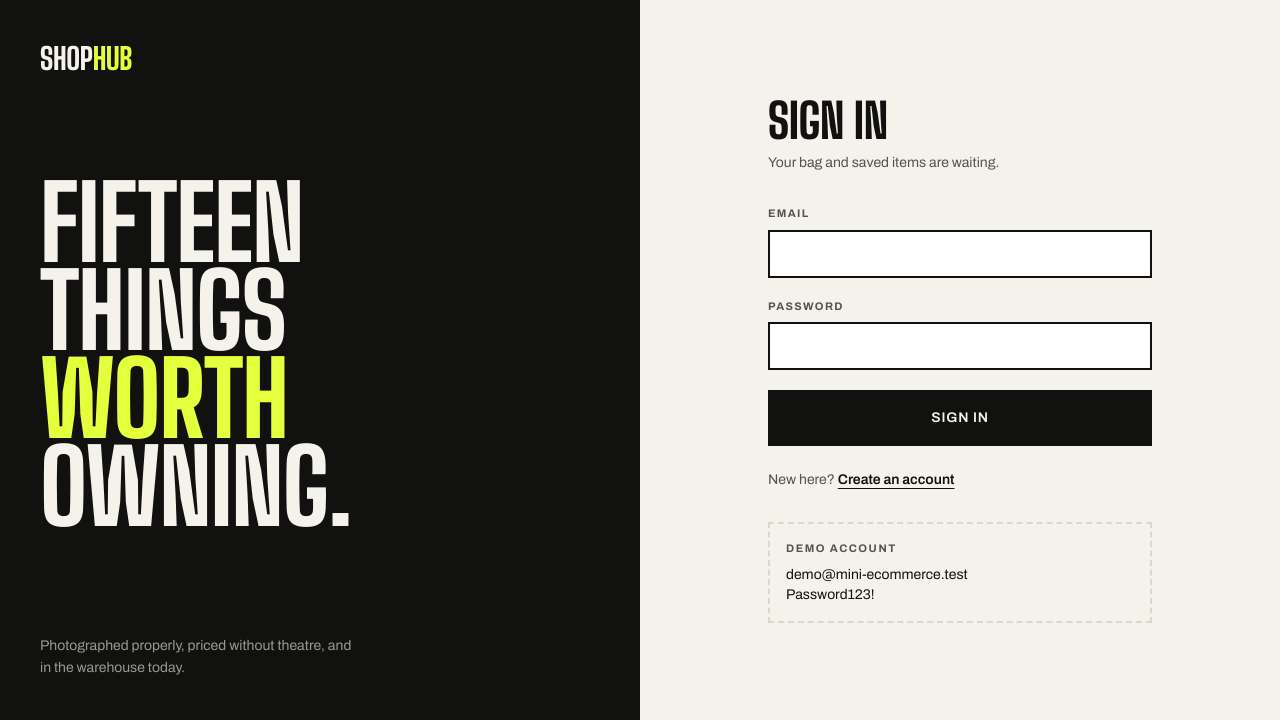
it: LoginPage › surfaces the server error message when credentials are rejected
Type "demo@mini-ecommerce.test" into the field labelled "Email" at [960, 254], box [768, 230, 1152, 278]
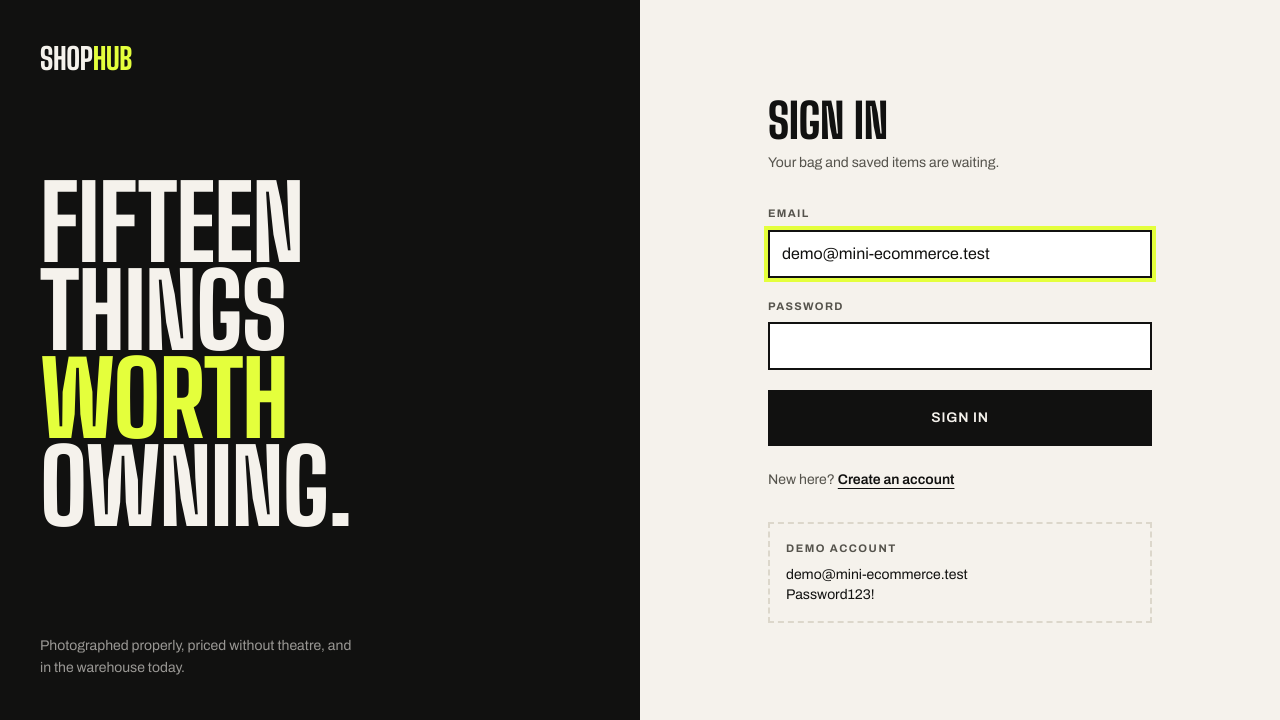
Type "wrong-password" into the password field labelled "Password" at [960, 346], box [768, 322, 1152, 370]
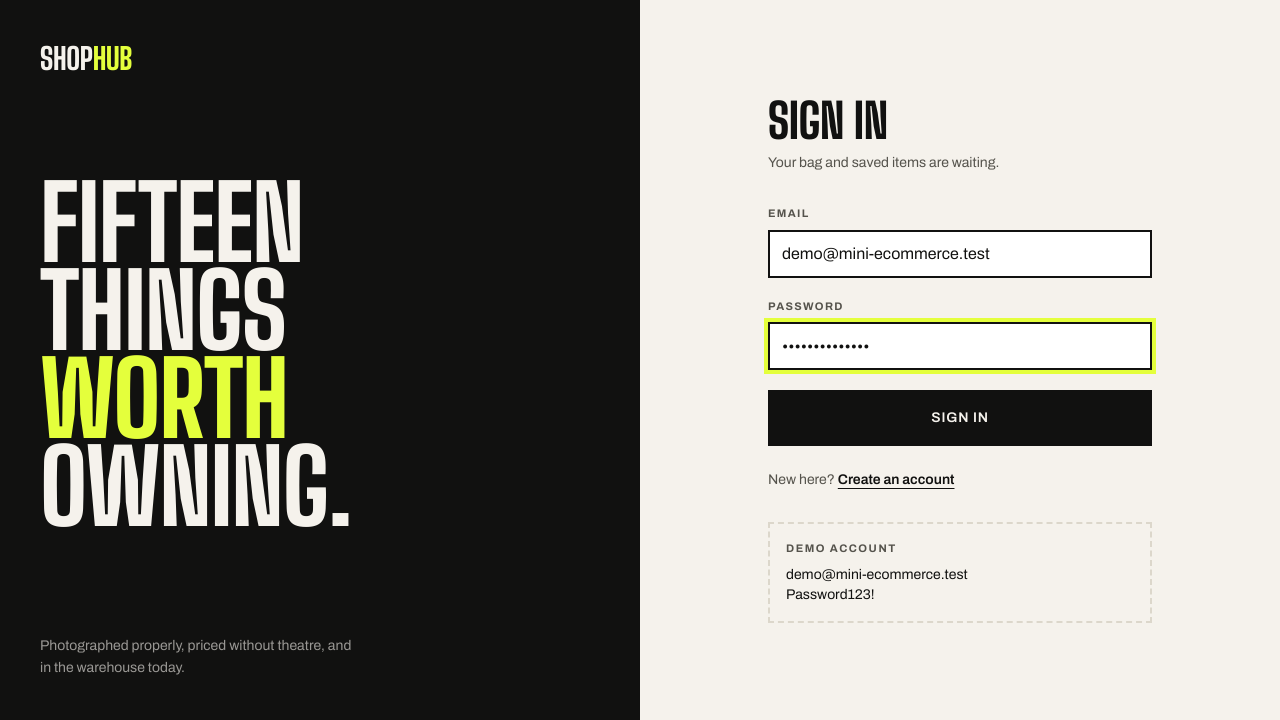
Click the button "Sign in" at [960, 418], box [768, 390, 1152, 446]
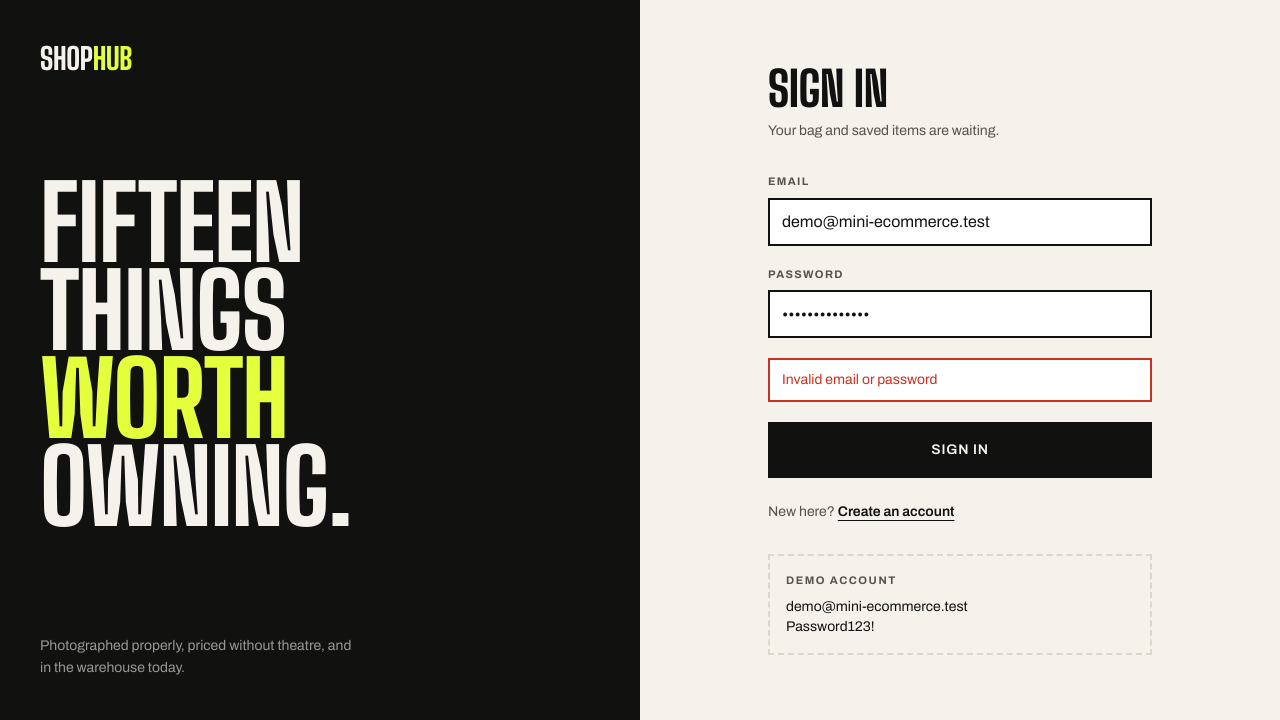
Expected: the message reads "Invalid email or password", [782, 372, 938, 387]
